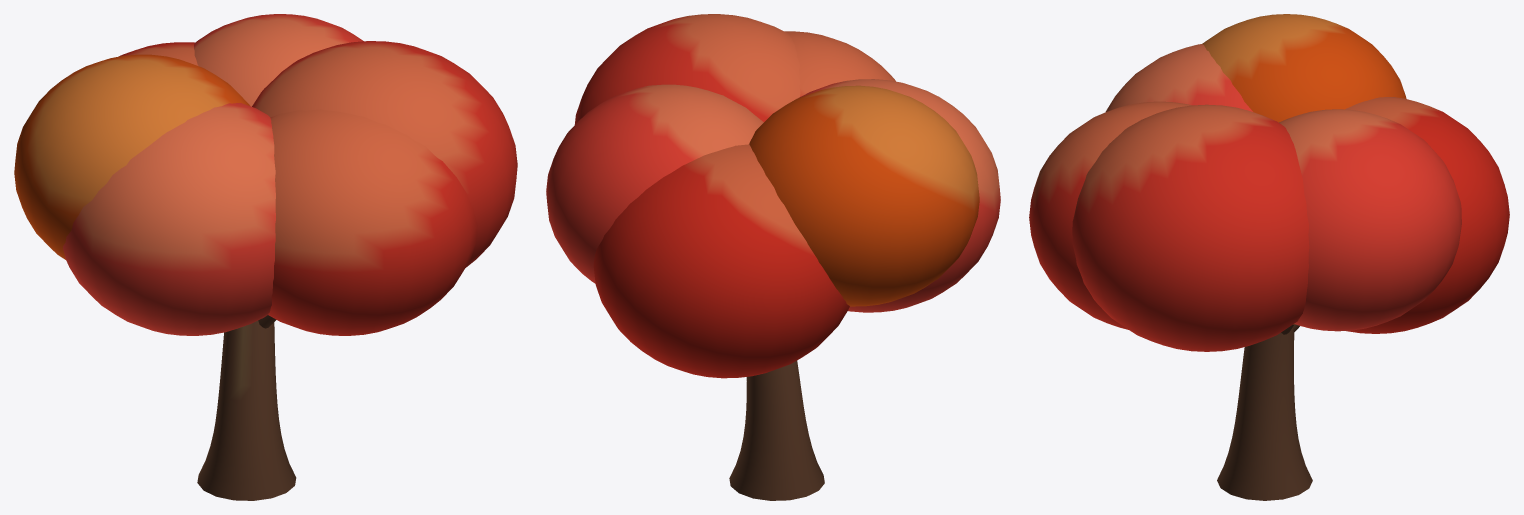
File: tree-110.obj
3 renders of one model, left to right at view 1: azimuth 30°, elevation 25°; view 2: azimuth 150°, elevation 25°; view 3: azimuth 270°, elevation 25°, orthographic. The views are drawn at different scales.
Visible parts, largest first — view 1: tree; view 2: tree; view 3: tree.
Boxes of the visible parts, left/top/right/bottom form: tree: left=14, top=14, right=517, bottom=500; tree: left=546, top=14, right=1000, bottom=500; tree: left=1029, top=14, right=1509, bottom=500.
Size of the model in its own units: 470 by 450 by 478.
